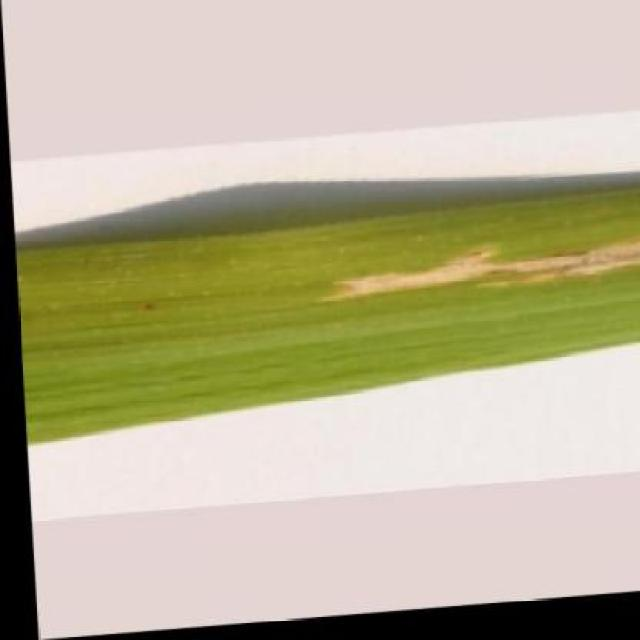Brown_Spot: (11, 197, 640, 451)
